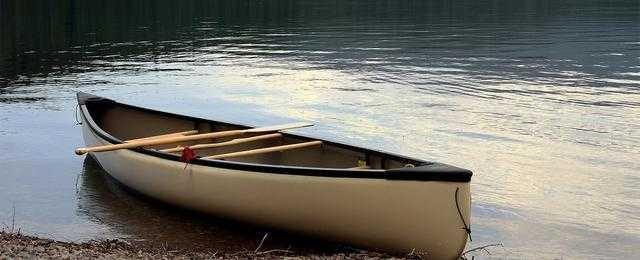kayak: (73, 91, 474, 257)
